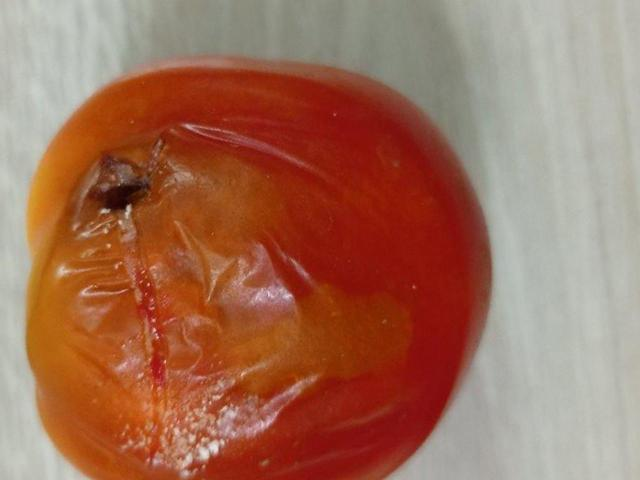defect: (22, 52, 494, 480)
